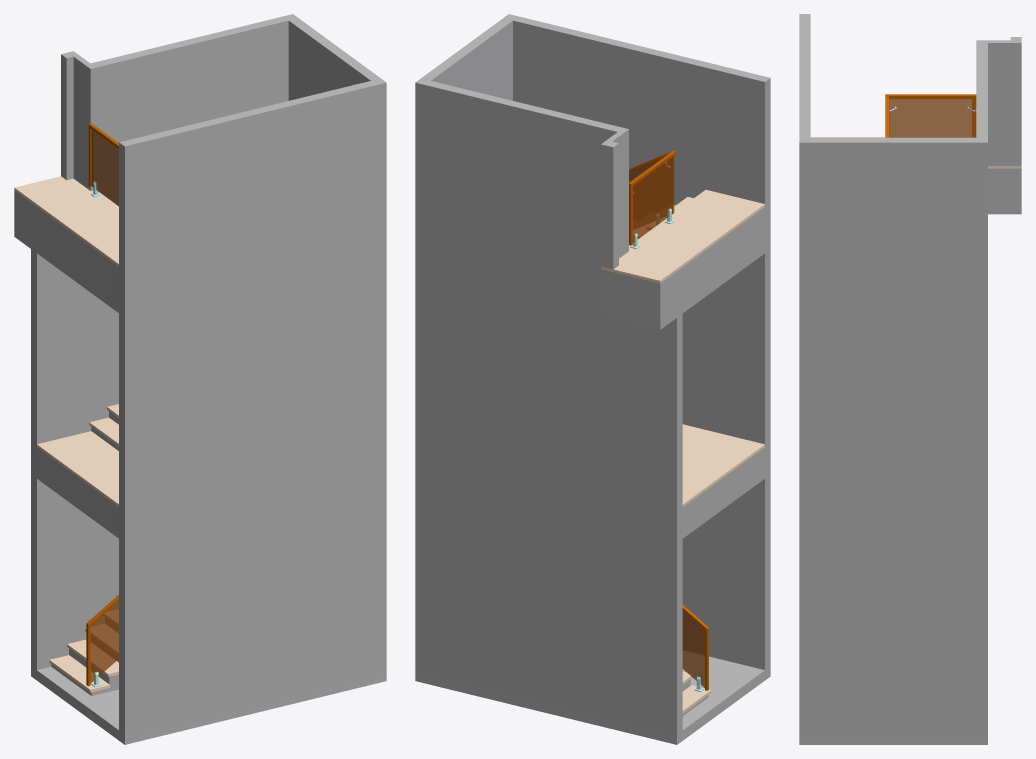
Rendered from 3D Сборка 1.obj.
3 renders of one model, left to right at view 1: azimuth 30°, elevation 25°; view 2: azimuth 150°, elevation 25°; view 3: azimuth 270°, elevation 25°, orthographic.
Bounding box in the file's own units: 3.96 × 8.65 × 2.9.
